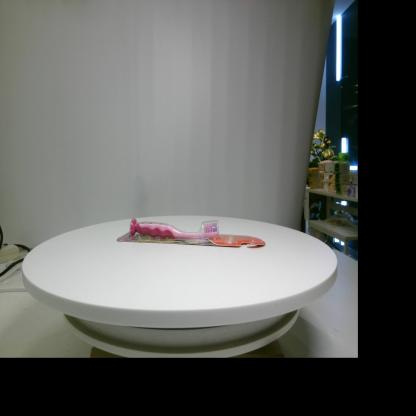Personal Hygiene: (116, 217, 266, 247)
